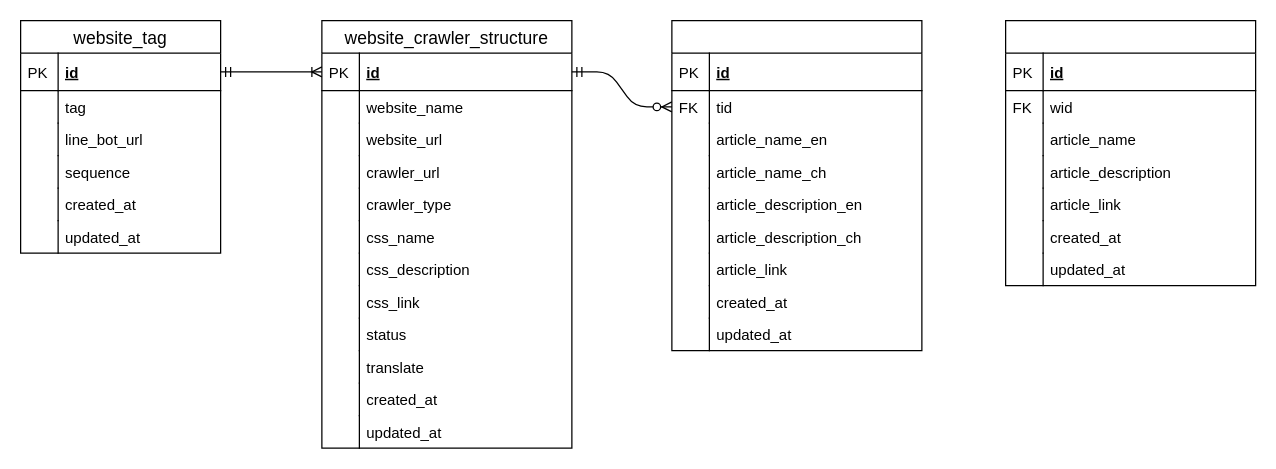
Some shapes in this 1276 by 469 pixel diagram are drawn without their labels. Each missing label, with the box of its shape:
crawler_clean_data: (671, 19, 922, 351)
crawler_data: (1004, 19, 1256, 286)
